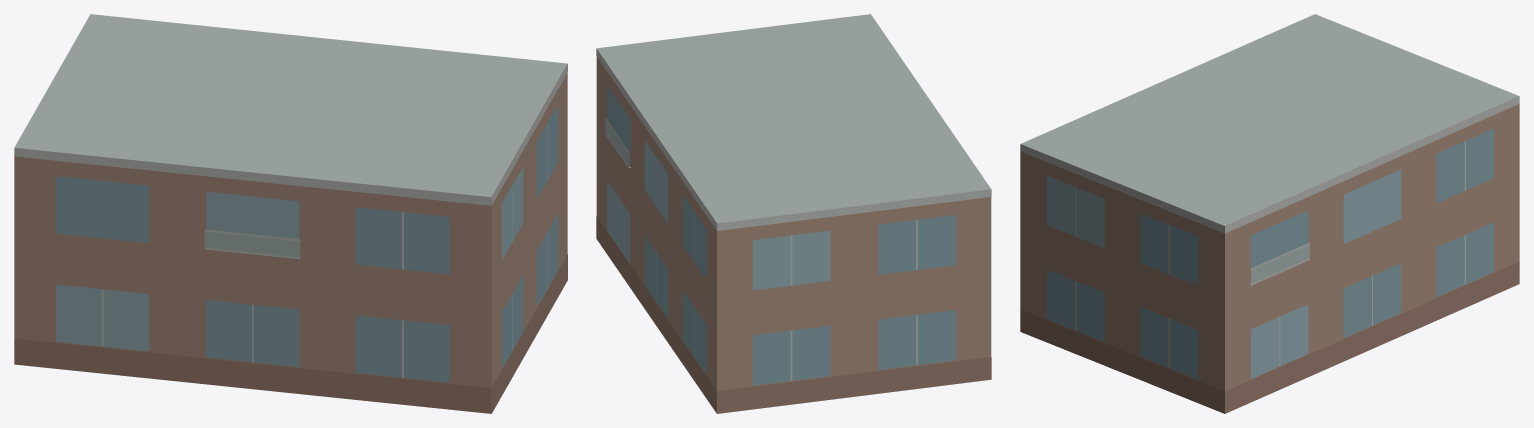
The model's file is survey-upis-32980879.glb.
The picture shows the model from 3 angles, left to right: view 1: azimuth 30°, elevation 25°; view 2: azimuth 150°, elevation 25°; view 3: azimuth 270°, elevation 25°; orthographic projection. The views are drawn at different scales.
Parts seen in each view (by area): view 1: survey-upis-32980879.tmp; view 2: survey-upis-32980879.tmp; view 3: survey-upis-32980879.tmp.
Boxes of the visible parts, x1,y1,x2,y2 form: survey-upis-32980879.tmp: [14, 14, 567, 413]; survey-upis-32980879.tmp: [596, 14, 991, 413]; survey-upis-32980879.tmp: [1020, 14, 1519, 413].
Size of the model in its own units: 14.79 by 6.1 by 14.71.
